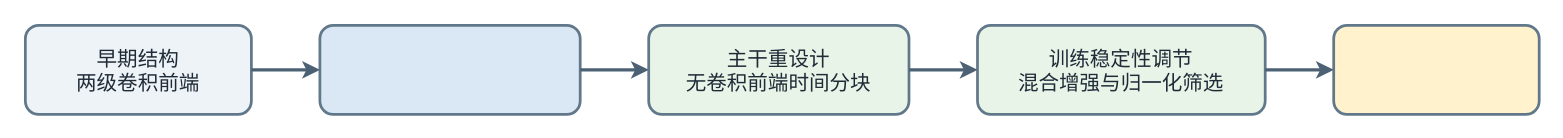
Image size: 1563x138. Some labels were removed from this diagram. Here are the shapes that lost their labels. From the top down, the centre of each, then its label:
At (449,69): "相对位置Conformer F1 0.63168".
At (1436,69): "代表结果 Macro-F1 0.70563".
